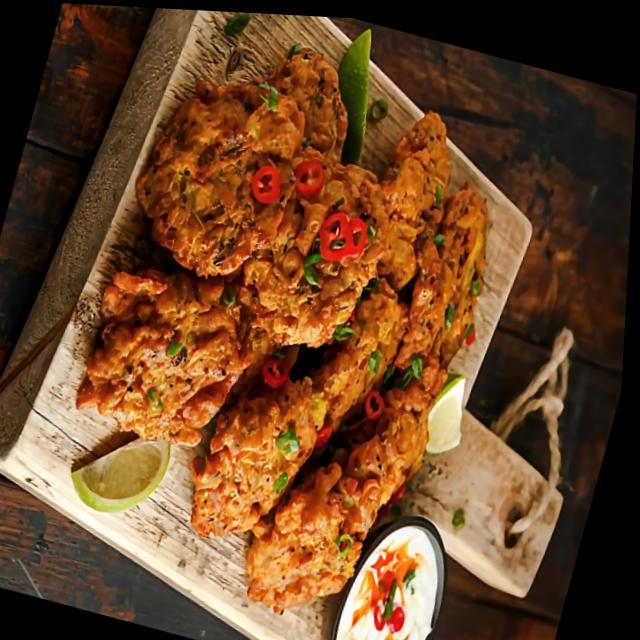CHICKEN FRY: (62, 39, 493, 613)
CURD: (330, 521, 437, 640)
